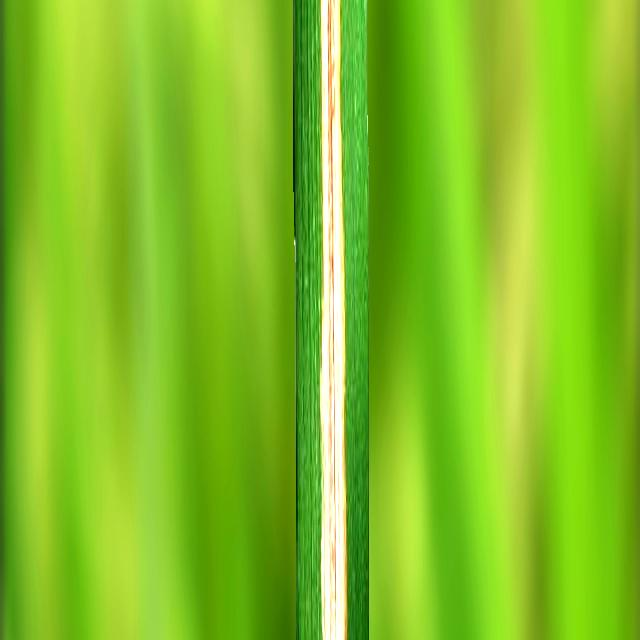BLB: (319, 0, 348, 640)
